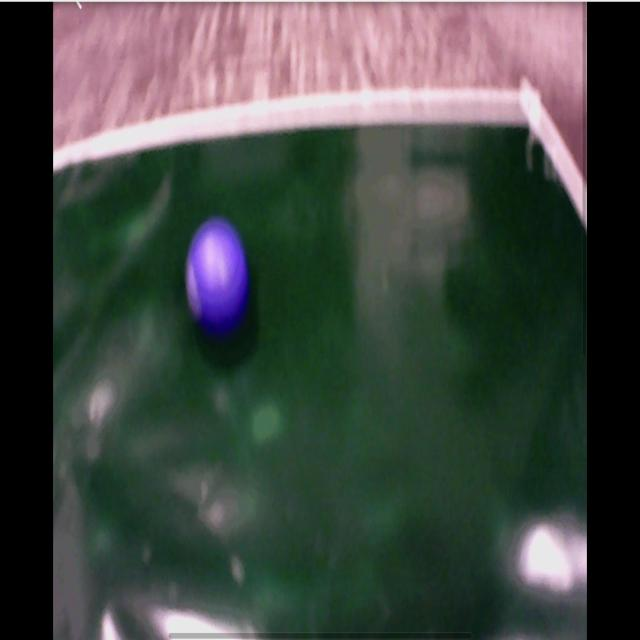ball: (184, 225, 247, 324)
